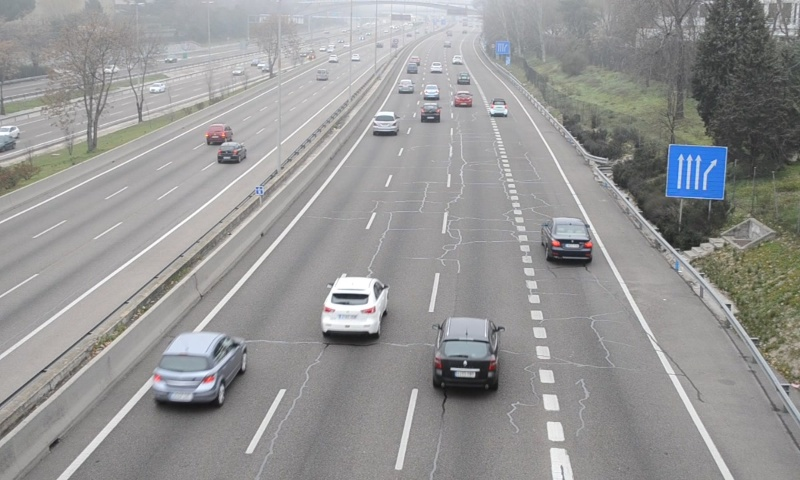car: (152, 332, 245, 406), (432, 317, 500, 392), (320, 278, 389, 336), (542, 217, 595, 266), (372, 112, 400, 136), (420, 102, 441, 123), (489, 97, 508, 117), (454, 91, 473, 108), (397, 78, 415, 95), (423, 84, 440, 101)
